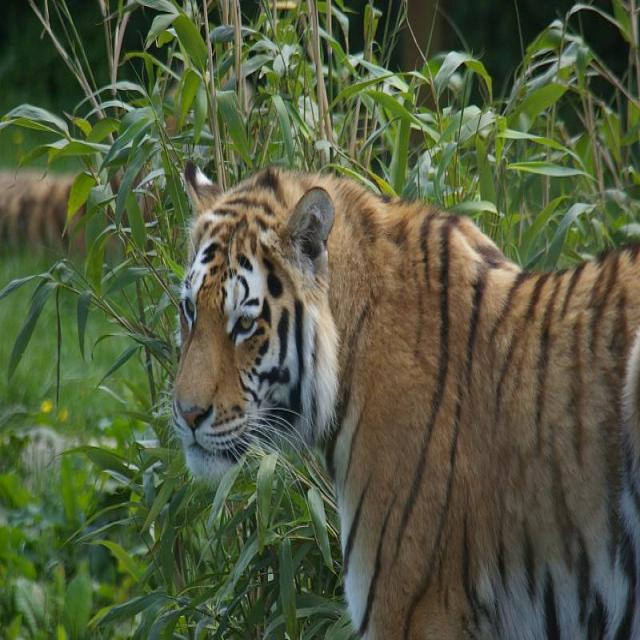Tiger: (164, 149, 638, 635)
